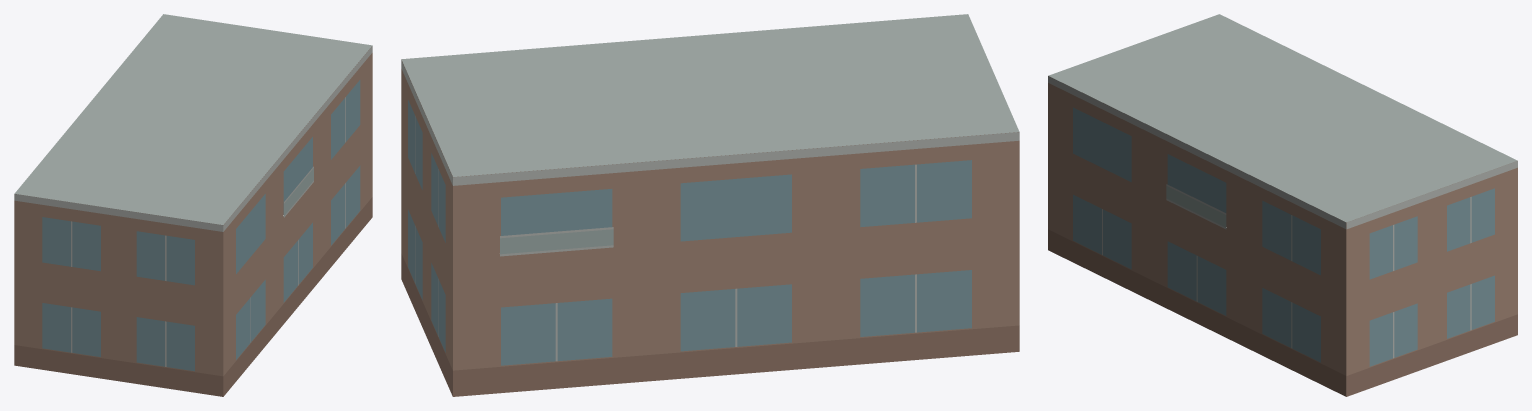
The model's file is survey-upis-32909999.glb.
3 views of the same model, side by side, from view 1: azimuth 30°, elevation 25°; view 2: azimuth 150°, elevation 25°; view 3: azimuth 270°, elevation 25° (orthographic). The views are drawn at different scales.
Visible parts, largest first — view 1: survey-upis-32909999.tmp; view 2: survey-upis-32909999.tmp; view 3: survey-upis-32909999.tmp.
Part boxes in pixels (left/top/right/bottom): survey-upis-32909999.tmp: left=14, top=14, right=372, bottom=396; survey-upis-32909999.tmp: left=401, top=14, right=1019, bottom=396; survey-upis-32909999.tmp: left=1048, top=14, right=1517, bottom=396.
Size of the model in its own units: 15.65 by 6.1 by 14.9.
